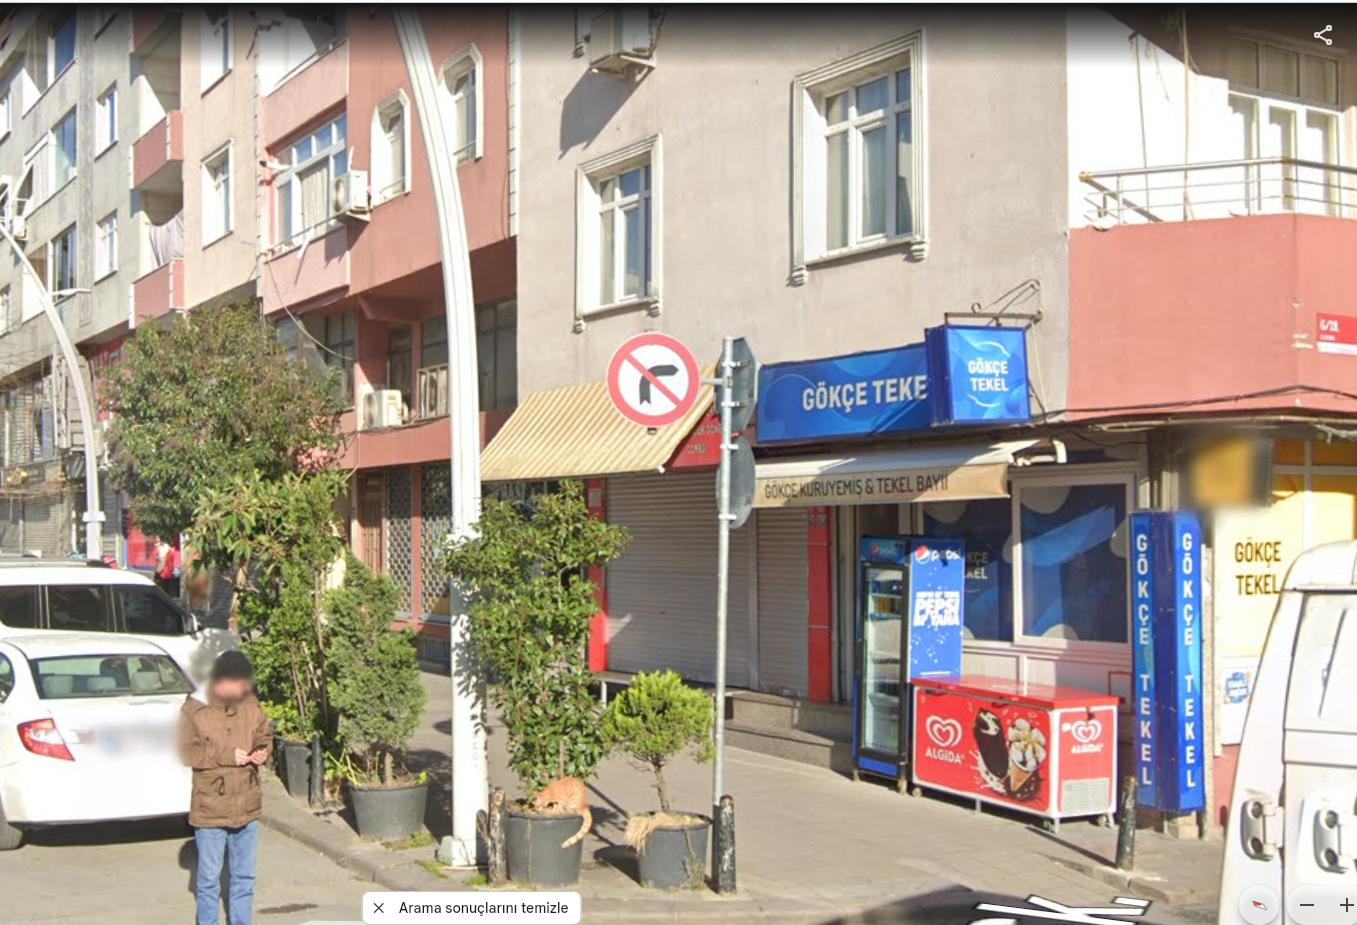rightturnsareforbidden: (596, 329, 703, 436)
